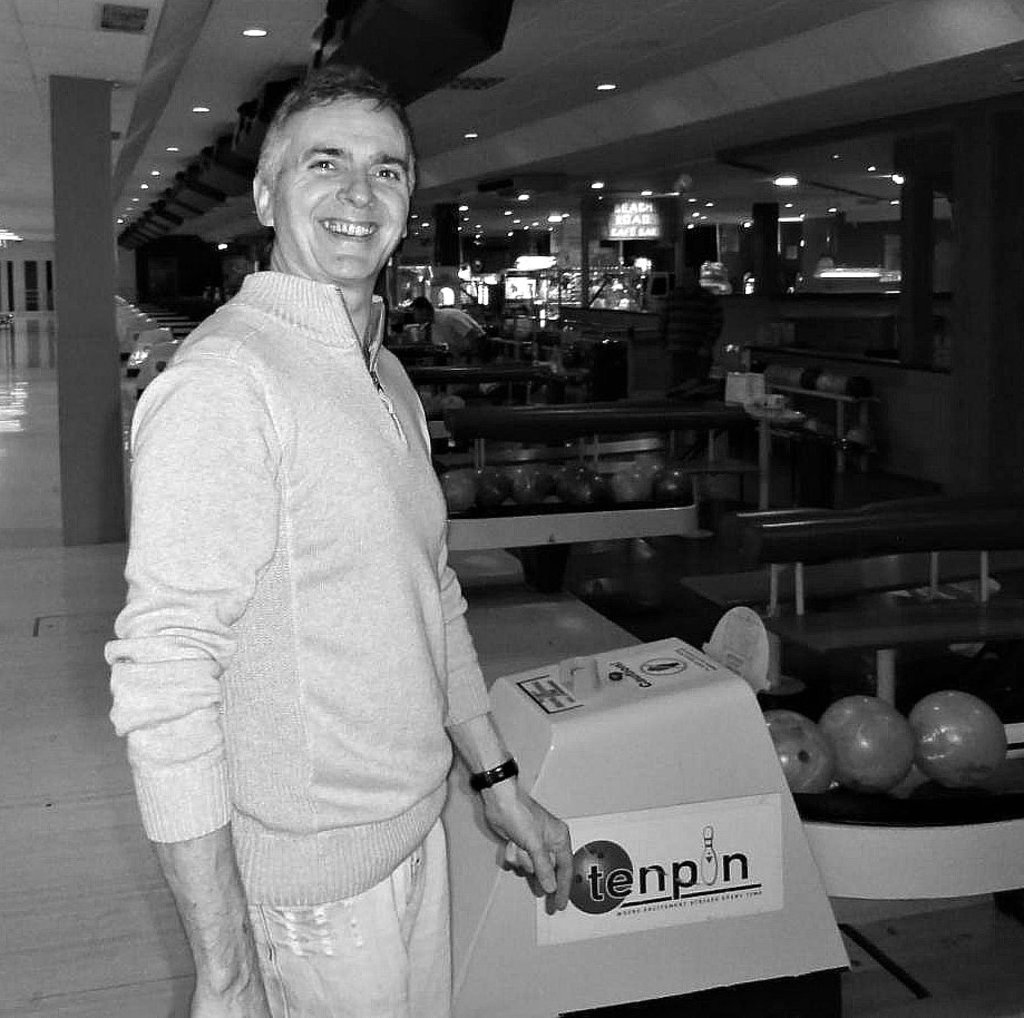Ball: (436, 463, 693, 503), (905, 693, 1005, 789), (822, 697, 914, 787), (762, 711, 829, 800)
